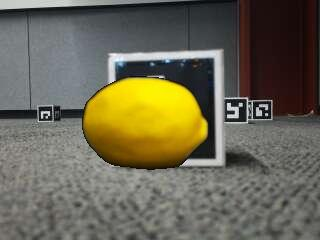lemon: (82, 77, 206, 167)
